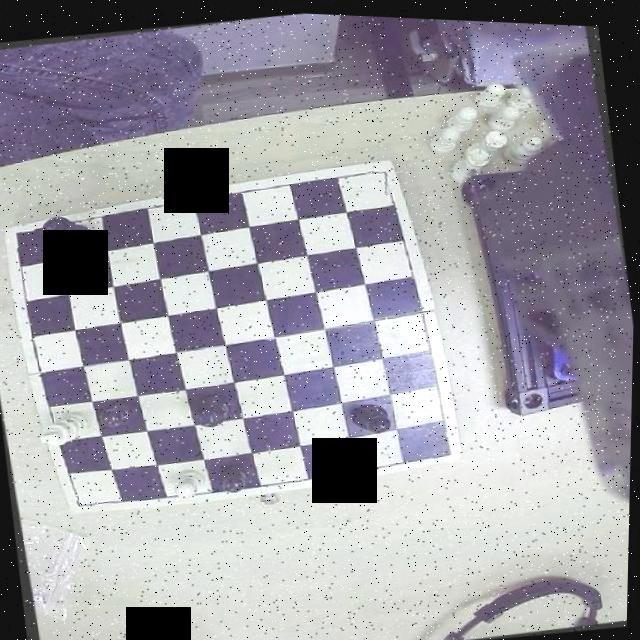chess-table-corners: (361, 156, 399, 193), (428, 424, 461, 459), (8, 220, 40, 253), (69, 483, 99, 512)
